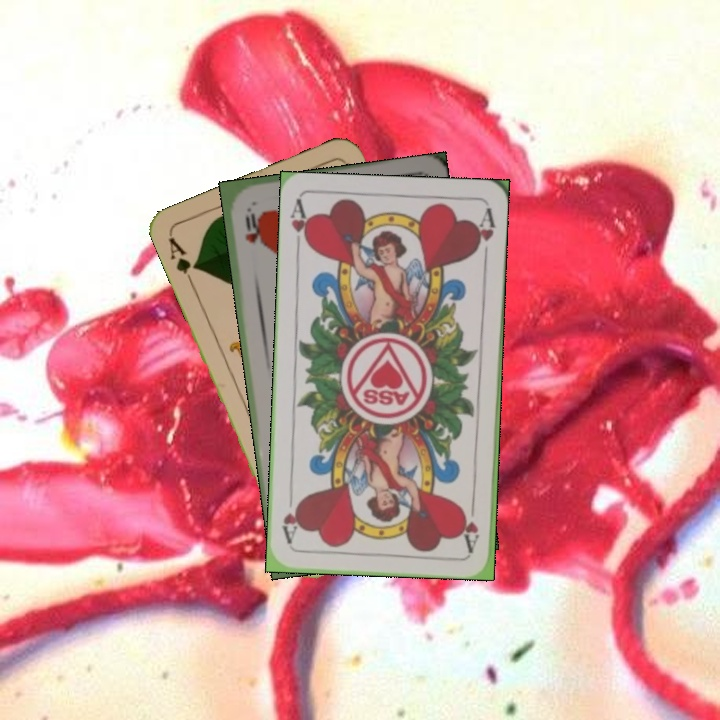GA: (164, 233, 201, 289)
HA: (286, 197, 313, 256), (460, 494, 482, 553)
HO: (241, 203, 261, 246)
